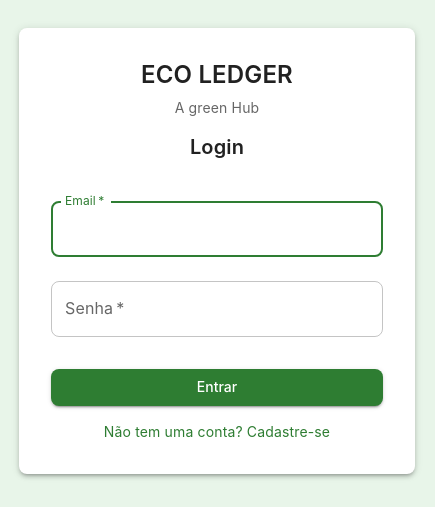
it: LoginPage › should show error for short password
Type "test@example.com" into the field labelled "Email *" at coordinates (217, 229), box [51,201,383,257]
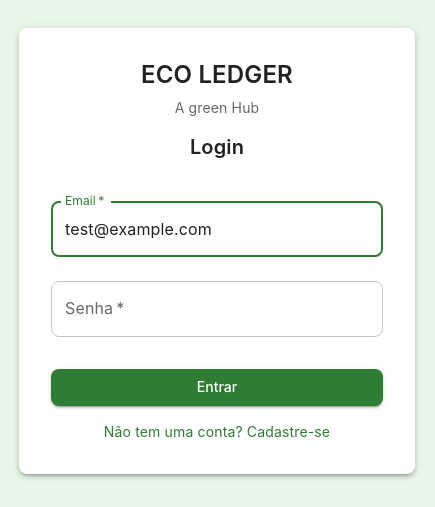
Type "123" into the password field labelled "Senha *" at coordinates (217, 309), box [51,281,383,337]
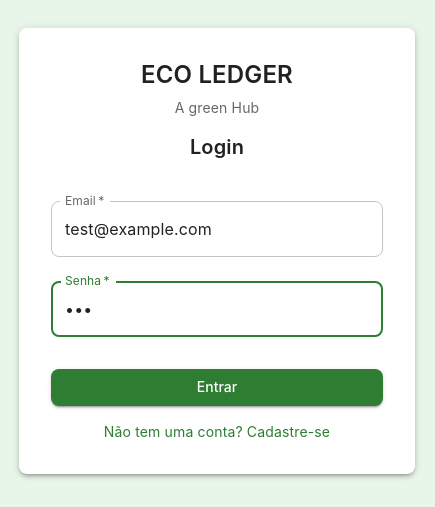
Click the button "Entrar" at coordinates (217, 387), box [51,369,383,406]
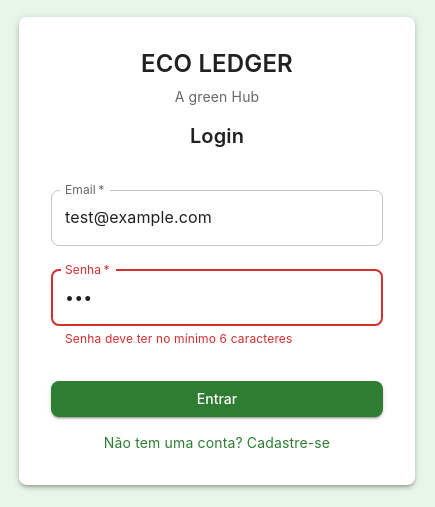
Expected: the text "Senha deve ter no mínimo 6 caracteres" is shown, [65,331,292,346]
